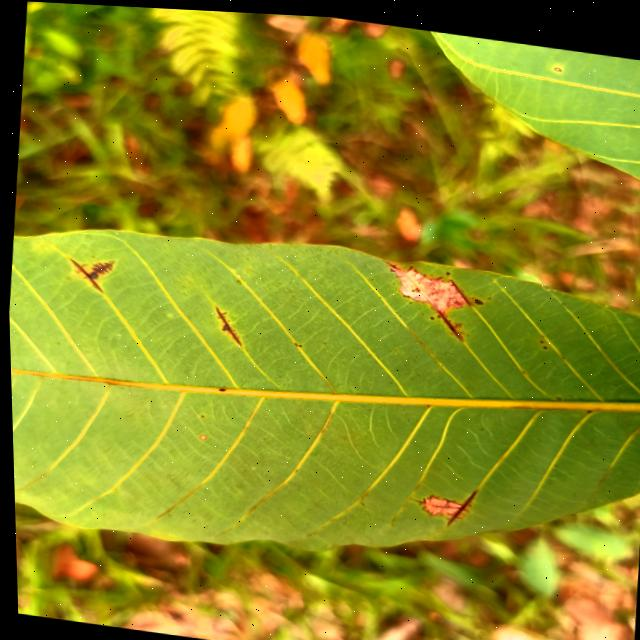Colletotrichum: (473, 294, 480, 299), (540, 340, 544, 343), (435, 310, 438, 313), (428, 312, 432, 314), (444, 267, 447, 269)
Corynespora: (66, 253, 114, 292), (442, 483, 475, 525), (210, 304, 242, 343), (433, 305, 462, 337), (445, 275, 472, 302), (381, 257, 399, 266)
Leaf-Blight: (386, 263, 466, 311), (420, 493, 457, 511)
